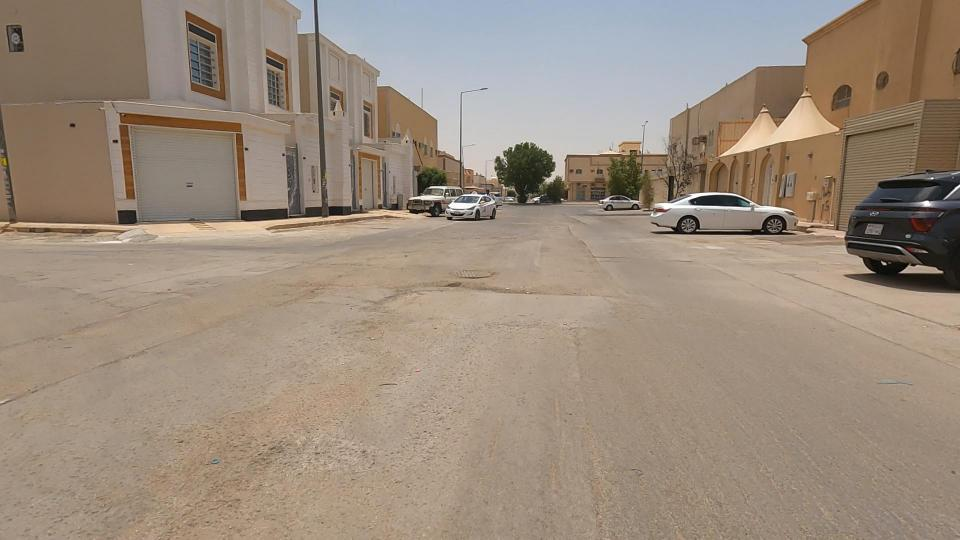POTHOLES: (309, 230, 595, 334)
